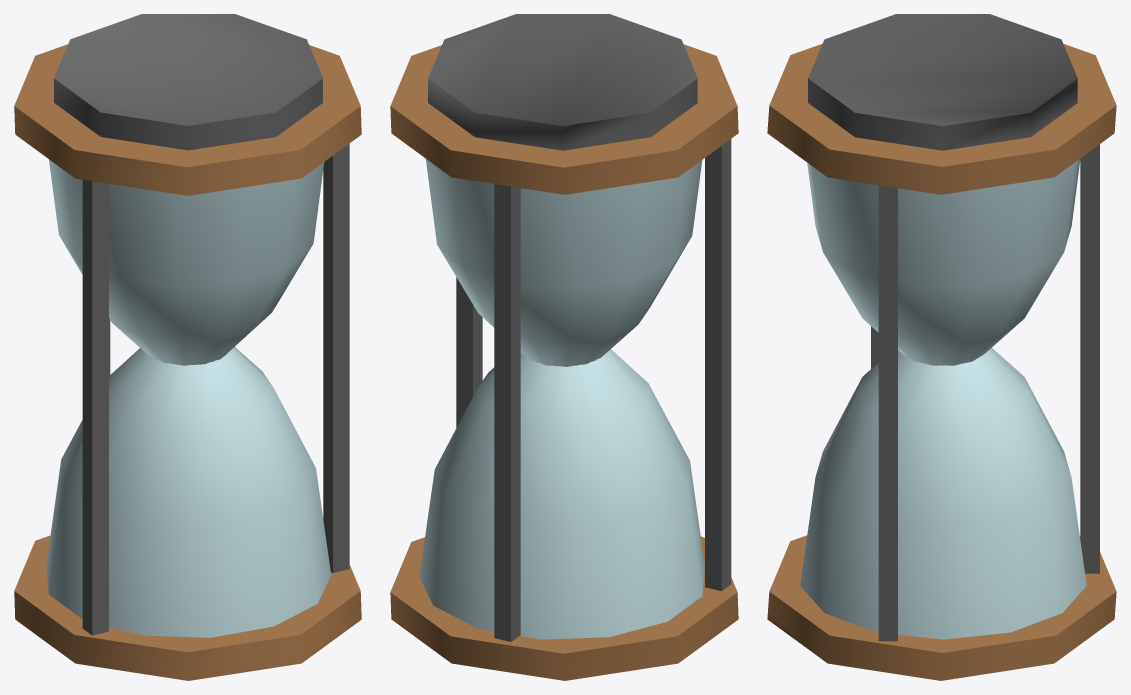
File: Hourglass 1.fbx
The picture shows the model from 3 angles, left to right: view 1: azimuth 30°, elevation 25°; view 2: azimuth 150°, elevation 25°; view 3: azimuth 270°, elevation 25°; orthographic projection.
Visible parts, largest first — view 1: pSphere11.001, pCylinder4; view 2: pCylinder4, pSphere11.001; view 3: pSphere11.001, pCylinder4.
Part boxes in pixels (x1,y1,x2,y2): pSphere11.001: (46, 159, 331, 637); pCylinder4: (14, 14, 361, 680); pCylinder4: (390, 14, 738, 680); pSphere11.001: (419, 159, 704, 639); pSphere11.001: (800, 159, 1086, 639); pCylinder4: (767, 14, 1116, 680).
Bounding box in the file's own units: 7.82 × 13.59 × 7.99.
